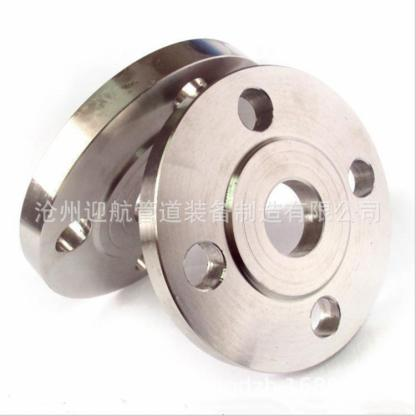FOD: (133, 55, 396, 380), (16, 35, 270, 312)
